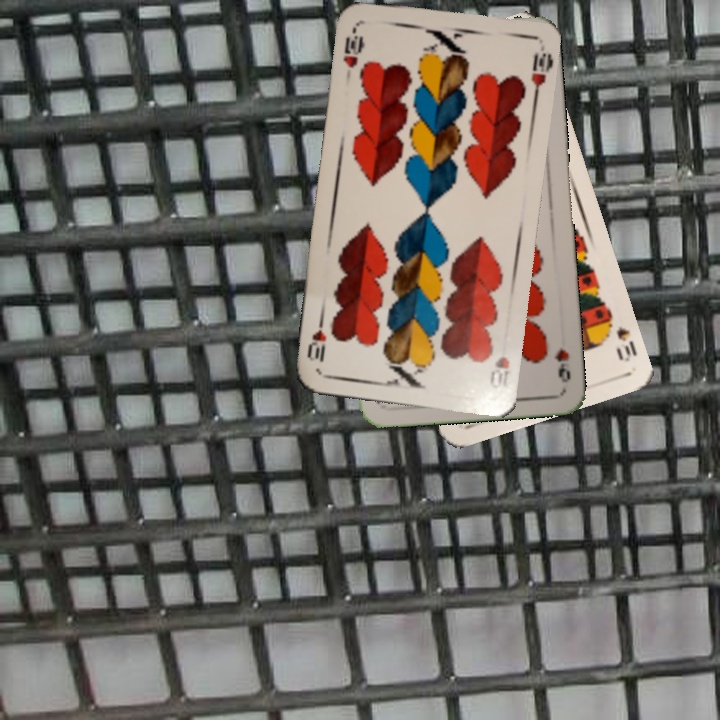H10: (339, 23, 367, 82), (486, 352, 512, 392)
H9: (551, 344, 573, 385)
S10: (603, 311, 640, 364)
